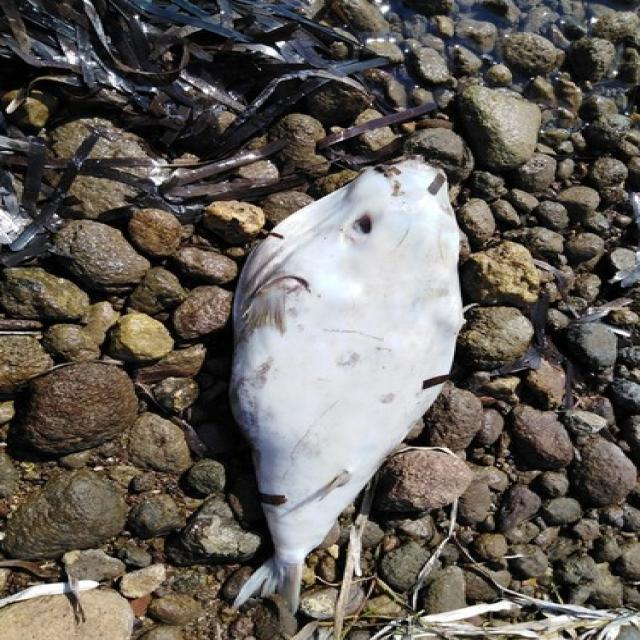Balik: (231, 158, 462, 610)
